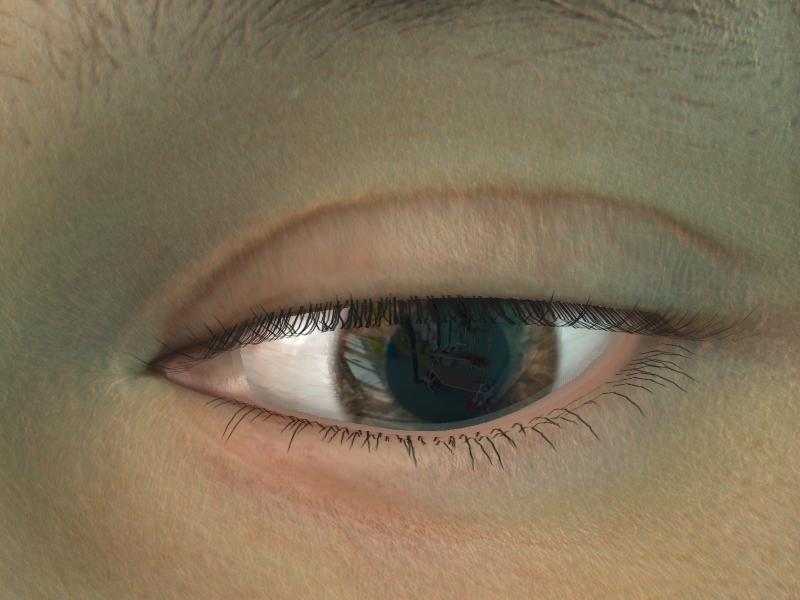eye: (336, 301, 552, 432)
